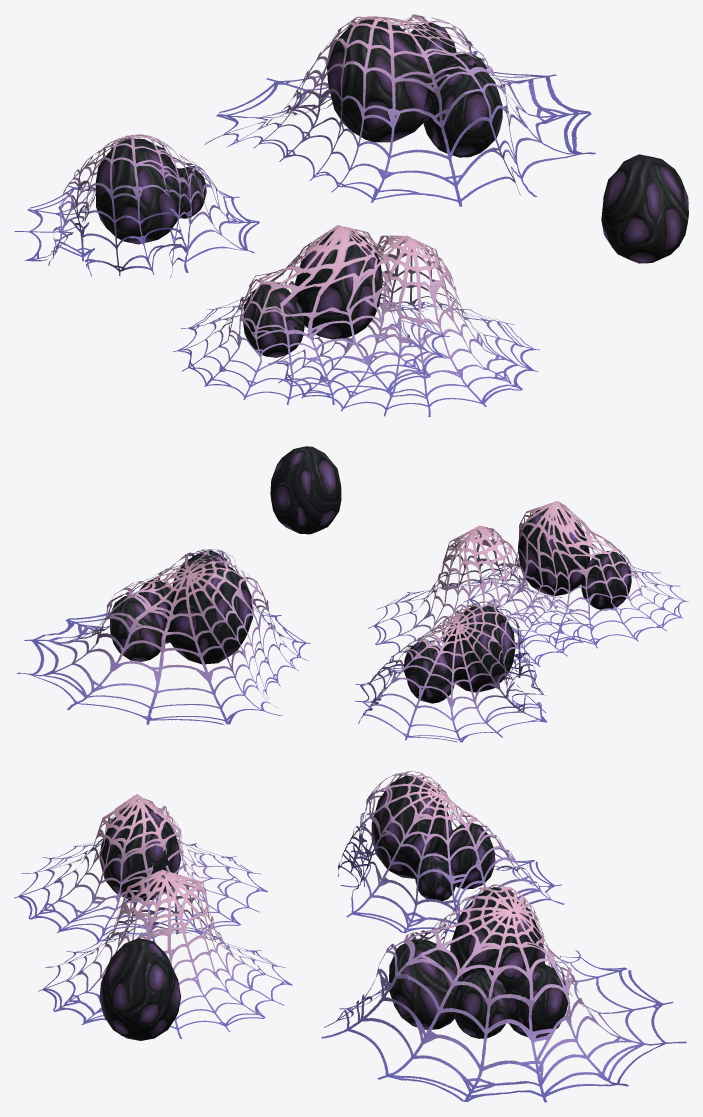
The model's file is SpiderEggs.fbx.
The picture shows the model from 3 angles, top to bottom: view 1: azimuth 30°, elevation 25°; view 2: azimuth 150°, elevation 25°; view 3: azimuth 270°, elevation 25°; orthographic projection. The views are drawn at different scales.
Visible parts, largest first — view 1: Ovo_Low.007, Ovo_Low.010, Ovo_Low.002, Ovo_Low.004, Ovo_Low.006, Ovo_Low.003, Ovo_Low.005_cell.002, Ovo_Low_cell.002, Ovo_Low, Ovo_Low.003_cell.004, Ovo_Low.005, Ovo_Low.010_cell.007 (+5 smaller); view 2: Ovo_Low.007, Ovo_Low.010, Ovo_Low.002, Ovo_Low.006, Ovo_Low.004, Ovo_Low.003, Ovo_Low, Ovo_Low.005, Ovo_Low.010_cell.013, Ovo_Low.005_cell.003, Ovo_Low.005_cell.002, Ovo_Low.005_cell.001 (+3 smaller); view 3: Ovo_Low.007, Ovo_Low.010, Ovo_Low.006, Ovo_Low.004, Ovo_Low.002, Ovo_Low.005, Ovo_Low, Ovo_Low_cell.002, Ovo_Low.003_cell.001, Ovo_Low.003, Ovo_Low.010_cell.014, Ovo_Low.005_cell.002 (+2 smaller).
Part boxes in pixels (bbox=[...]): Ovo_Low.007: bbox=[204, 14, 595, 206]; Ovo_Low.010: bbox=[327, 19, 502, 152]; Ovo_Low.002: bbox=[173, 225, 449, 404]; Ovo_Low.004: bbox=[268, 235, 539, 416]; Ovo_Low.006: bbox=[14, 134, 259, 277]; Ovo_Low.003: bbox=[243, 231, 379, 357]; Ovo_Low.005_cell.002: bbox=[95, 141, 182, 244]; Ovo_Low_cell.002: bbox=[609, 154, 688, 246]; Ovo_Low: bbox=[601, 154, 686, 263]; Ovo_Low.003_cell.004: bbox=[295, 242, 354, 334]; Ovo_Low.005: bbox=[99, 138, 206, 231]; Ovo_Low.010_cell.007: bbox=[429, 72, 502, 141]; Ovo_Low.007: bbox=[17, 549, 310, 724]; Ovo_Low.010: bbox=[110, 550, 252, 663]; Ovo_Low.002: bbox=[463, 501, 688, 648]; Ovo_Low.006: bbox=[355, 601, 547, 742]; Ovo_Low.004: bbox=[367, 525, 589, 666]; Ovo_Low.003: bbox=[518, 508, 631, 610]; Ovo_Low: bbox=[270, 446, 341, 534]; Ovo_Low.005: bbox=[404, 606, 515, 703]; Ovo_Low.010_cell.013: bbox=[117, 598, 162, 656]; Ovo_Low.005_cell.003: bbox=[435, 608, 501, 701]; Ovo_Low.005_cell.002: bbox=[460, 605, 515, 691]; Ovo_Low.005_cell.001: bbox=[413, 646, 452, 701]; Ovo_Low.007: bbox=[321, 884, 686, 1102]; Ovo_Low.010: bbox=[389, 887, 568, 1038]; Ovo_Low.006: bbox=[338, 771, 564, 933]; Ovo_Low.004: bbox=[38, 869, 292, 1038]; Ovo_Low.002: bbox=[14, 794, 267, 944]; Ovo_Low.005: bbox=[371, 776, 495, 901]; Ovo_Low: bbox=[99, 938, 180, 1040]; Ovo_Low_cell.002: bbox=[99, 938, 157, 1030]; Ovo_Low.003_cell.001: bbox=[100, 810, 178, 893]; Ovo_Low.003: bbox=[99, 804, 180, 894]; Ovo_Low.010_cell.014: bbox=[455, 989, 504, 1037]; Ovo_Low.005_cell.002: bbox=[371, 775, 433, 876].
Size of the model in its own units: 329 by 93.24 by 351.
